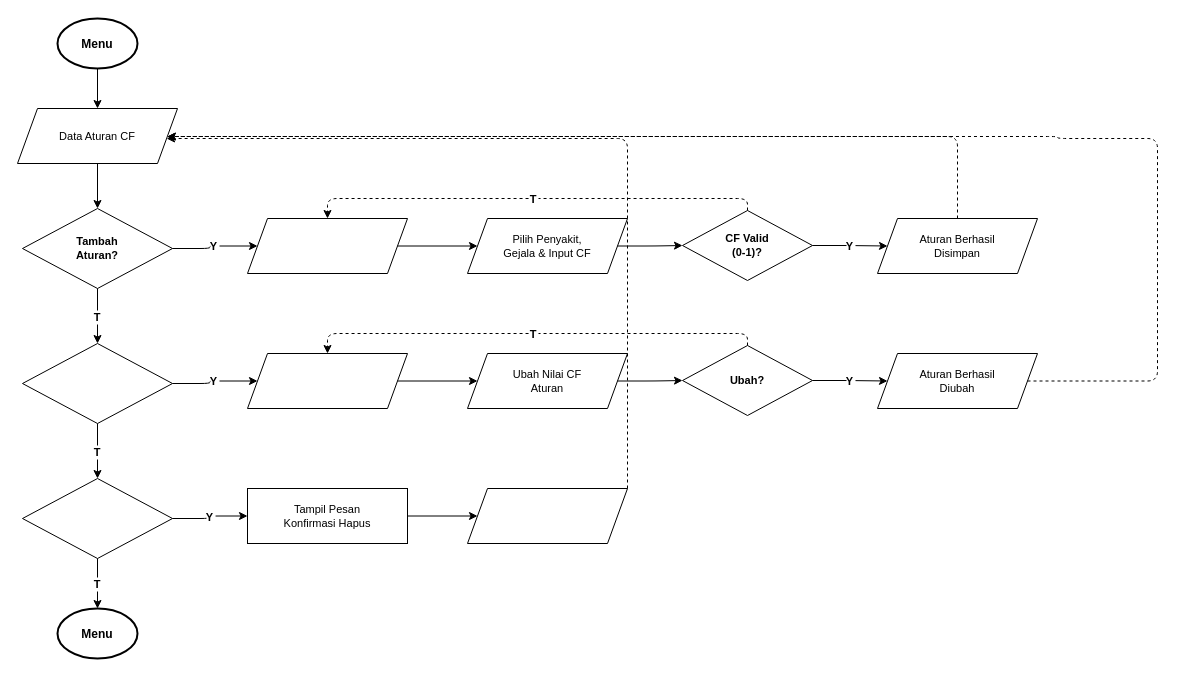
This 1183x676 diagram has some shape labels left out. The shapes that lost their labels are listed below. From the top down, each one's centre as x and y in pixels, then its label:
At [327,246]: "Tampil Form Tambah Aturan".
At [97,383]: "Ubah Aturan?".
At [327,380]: "Tampil Form Ubah Aturan".
At [97,518]: "Hapus Aturan?".
At [547,516]: "Aturan CF Dihapus".
